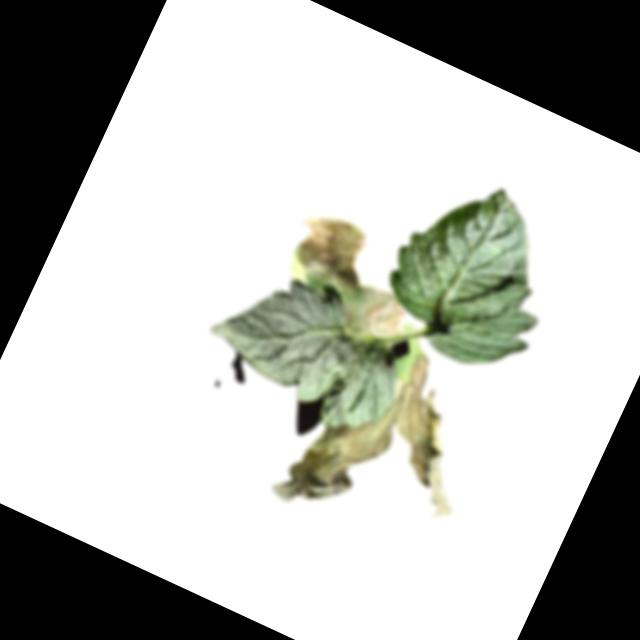Late_blight: (265, 314, 510, 568), (266, 202, 436, 353)
